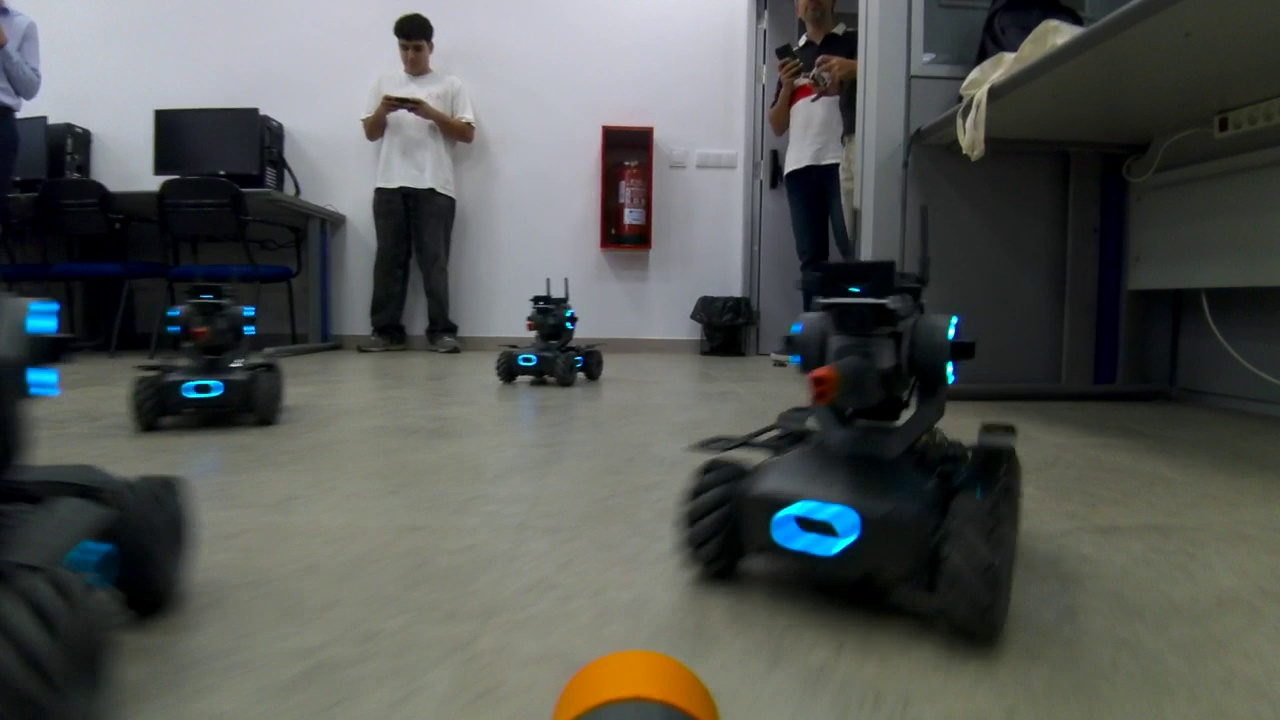robot: (680, 204, 1026, 658), (125, 261, 296, 437), (489, 273, 612, 390)
